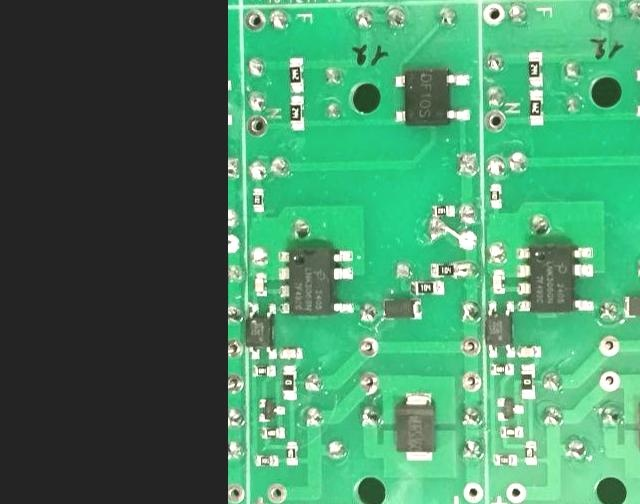chip-capacitor: (254, 271, 269, 297), (493, 267, 507, 294), (518, 343, 543, 357), (280, 346, 304, 359)
chip-resistor: (289, 95, 307, 131), (521, 361, 538, 398), (289, 55, 305, 93), (529, 89, 545, 126), (282, 363, 298, 400), (528, 51, 544, 87), (410, 279, 446, 295), (431, 260, 459, 277), (524, 439, 540, 465), (492, 451, 519, 466), (260, 425, 288, 439), (255, 452, 281, 467), (251, 363, 278, 377), (490, 362, 516, 376), (499, 424, 525, 438), (252, 187, 266, 213), (286, 440, 300, 466), (431, 204, 457, 218), (490, 183, 503, 209)
diode: (394, 390, 438, 464), (380, 295, 424, 319)
ic: (517, 243, 595, 314), (278, 247, 356, 317), (393, 67, 472, 125), (487, 298, 517, 359), (247, 301, 278, 360)
transistor: (257, 396, 287, 423), (497, 395, 526, 422)
